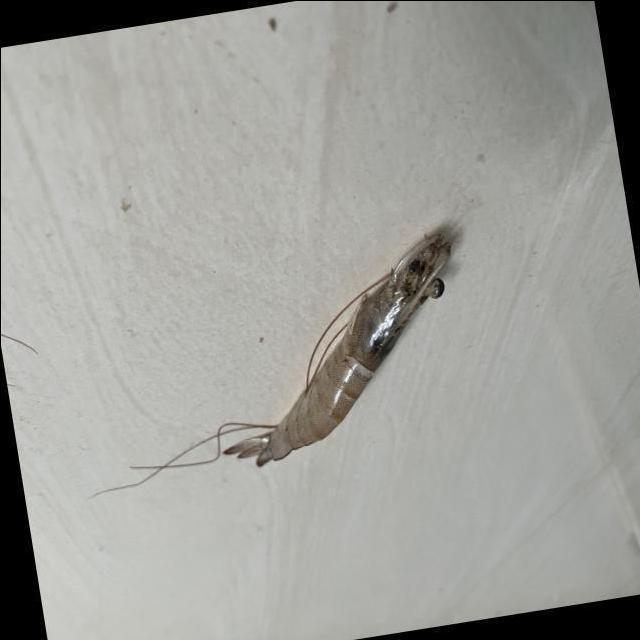shrimp: (223, 234, 450, 467)
